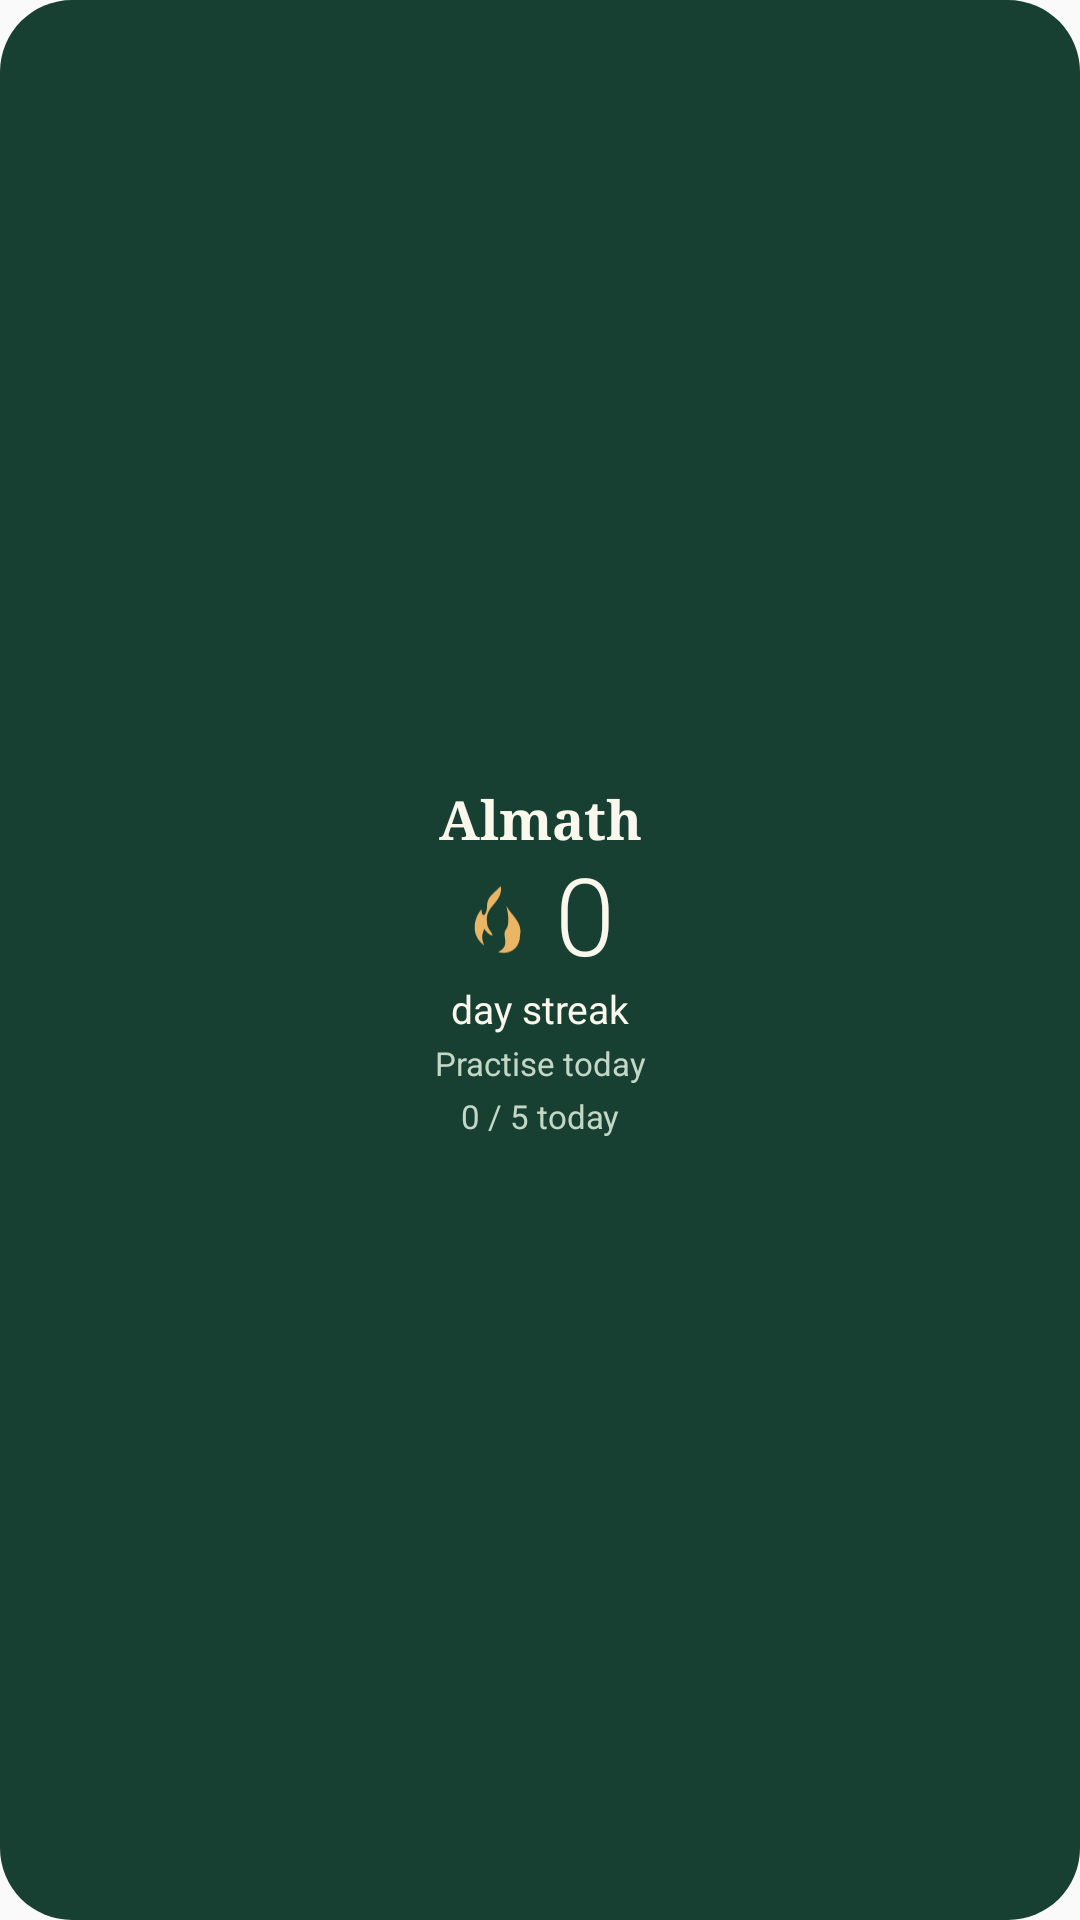

Named icons in this screenshot (1080x1920) and their bounding boxes, Rect(x1, y1, x2, y2):
widget flame: Rect(474, 886, 521, 954)
